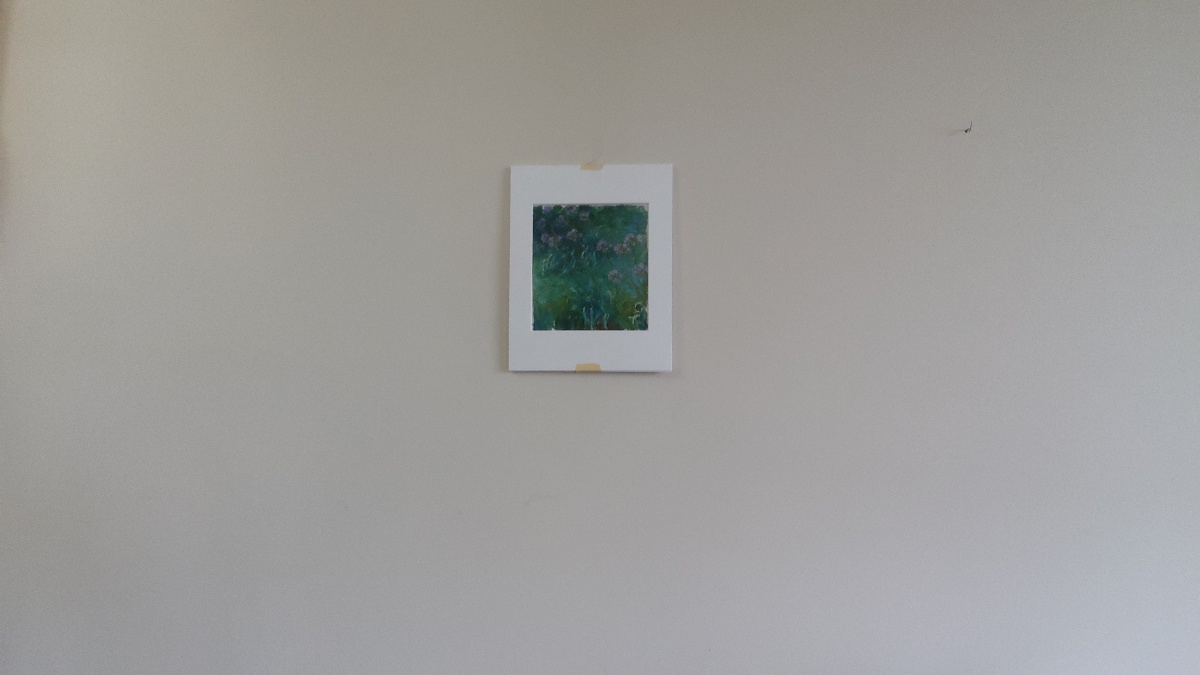painting: (526, 194, 656, 339)
